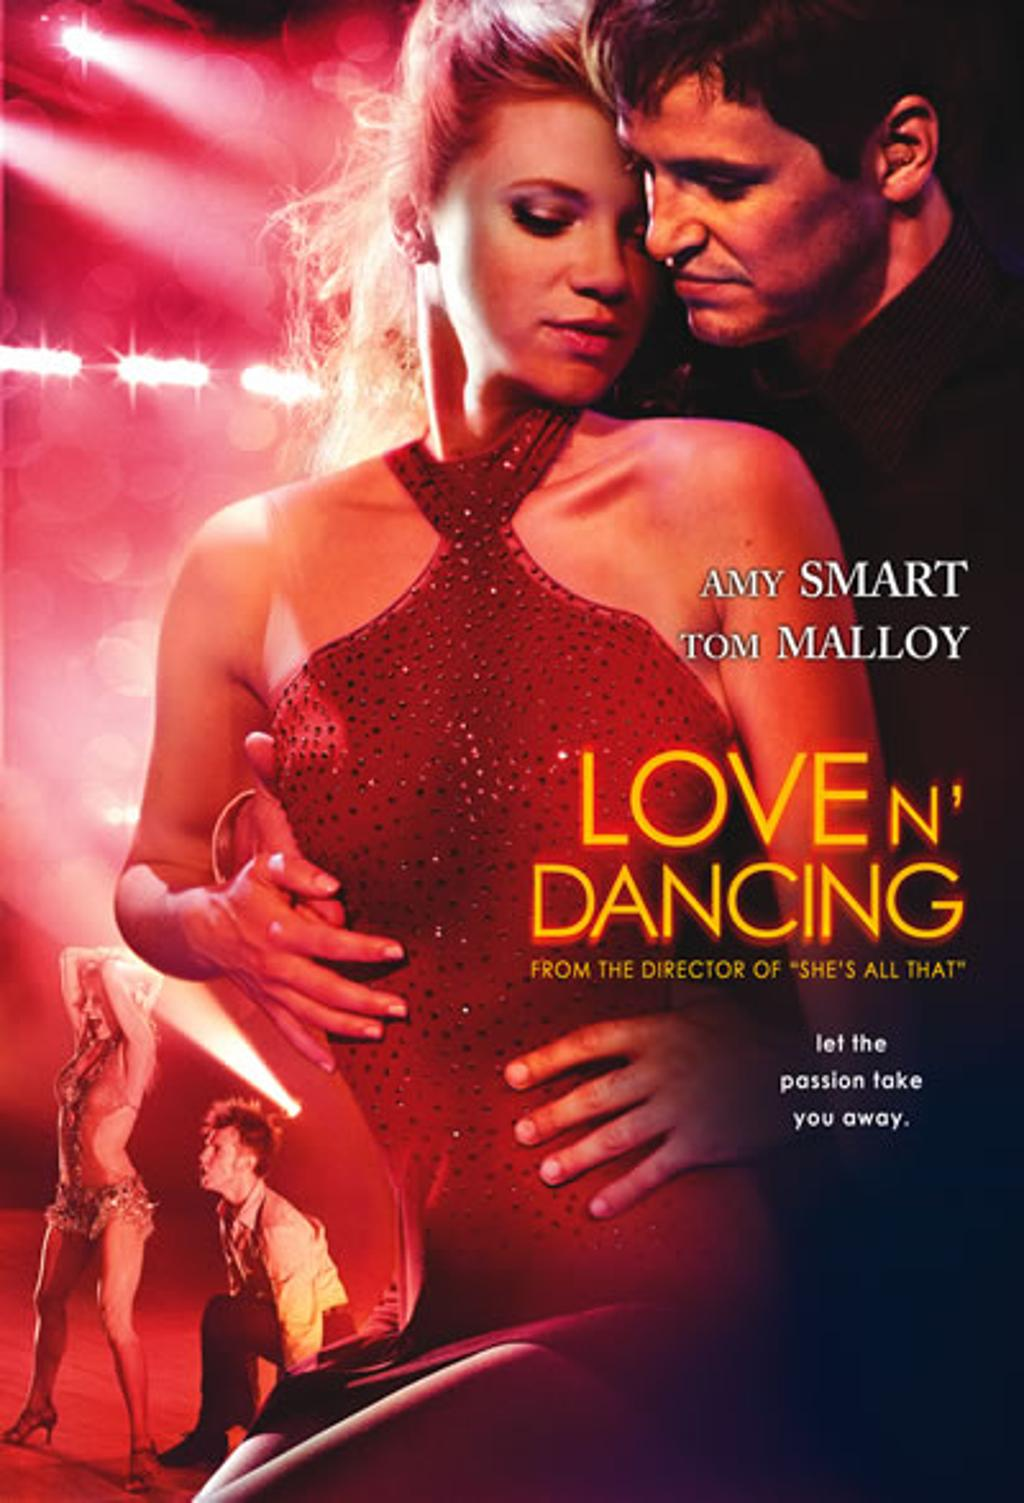face: (617, 49, 877, 346), (432, 85, 661, 406), (197, 1123, 243, 1189), (79, 975, 120, 1042)
